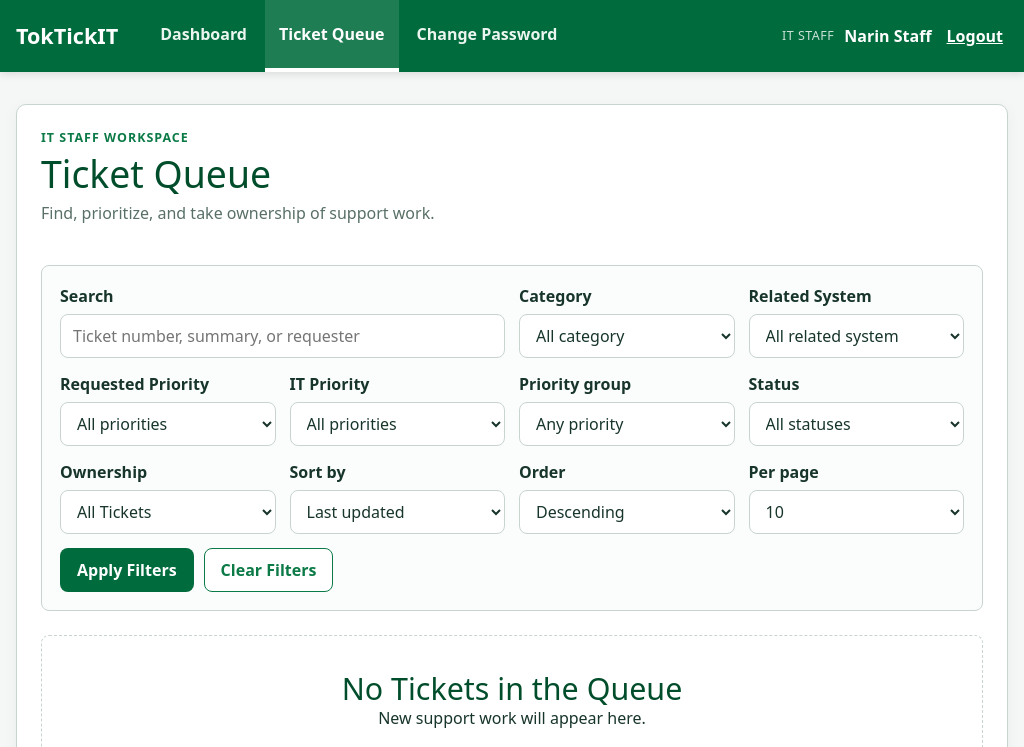
Scenario: IT Staff Ticket Queue › shows empty and no-results feedback while preserving filter controls
Expected: the heading "No Tickets in the Queue" is shown, [342,666,682,708]
Type "campus" into the field labelled "Search" at (282, 336), box [60,314,505,358]
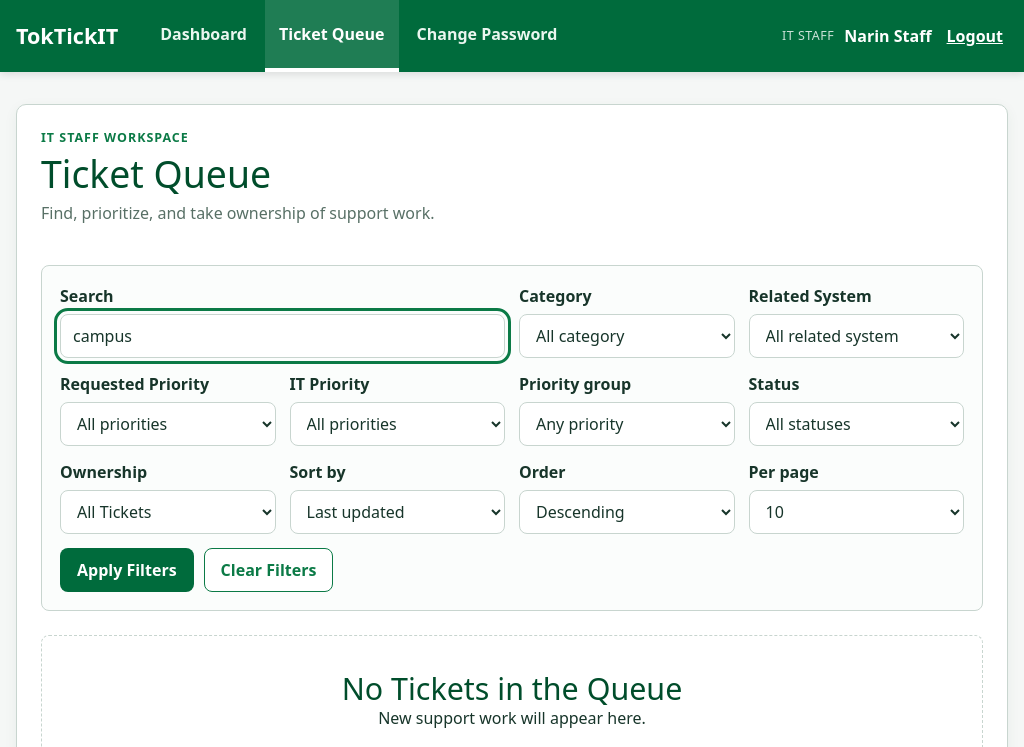
Click the button "Apply Filters" at (127, 570), box [60,548,194,592]
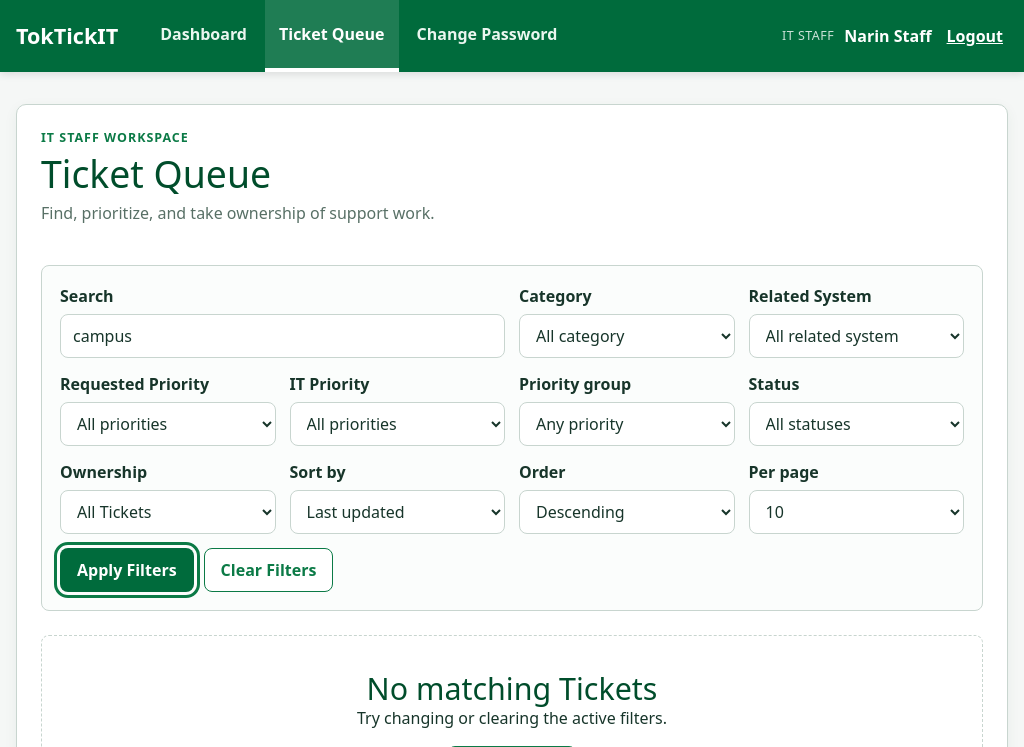
Expected: the heading "No matching Tickets" is shown, [367,666,657,708]
